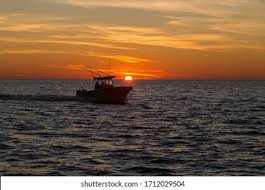boat: (74, 73, 135, 104)
